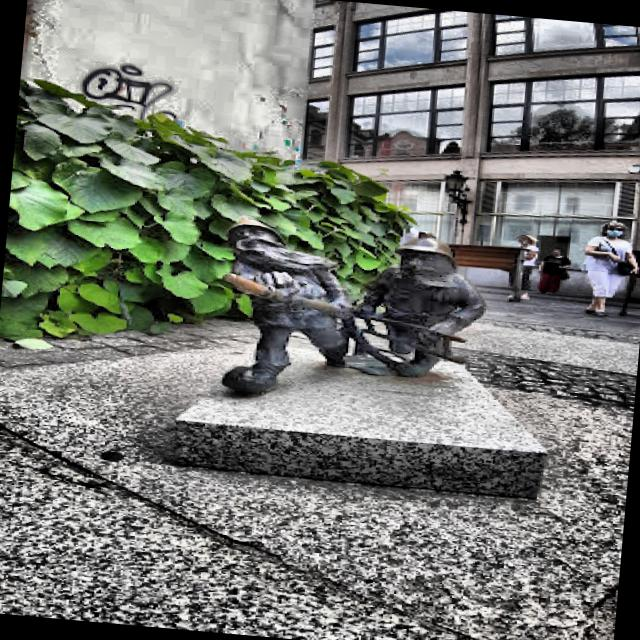Pozarki: (220, 215, 489, 394)
